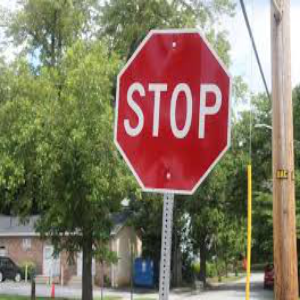STOP_SIGN: (113, 28, 233, 194)
